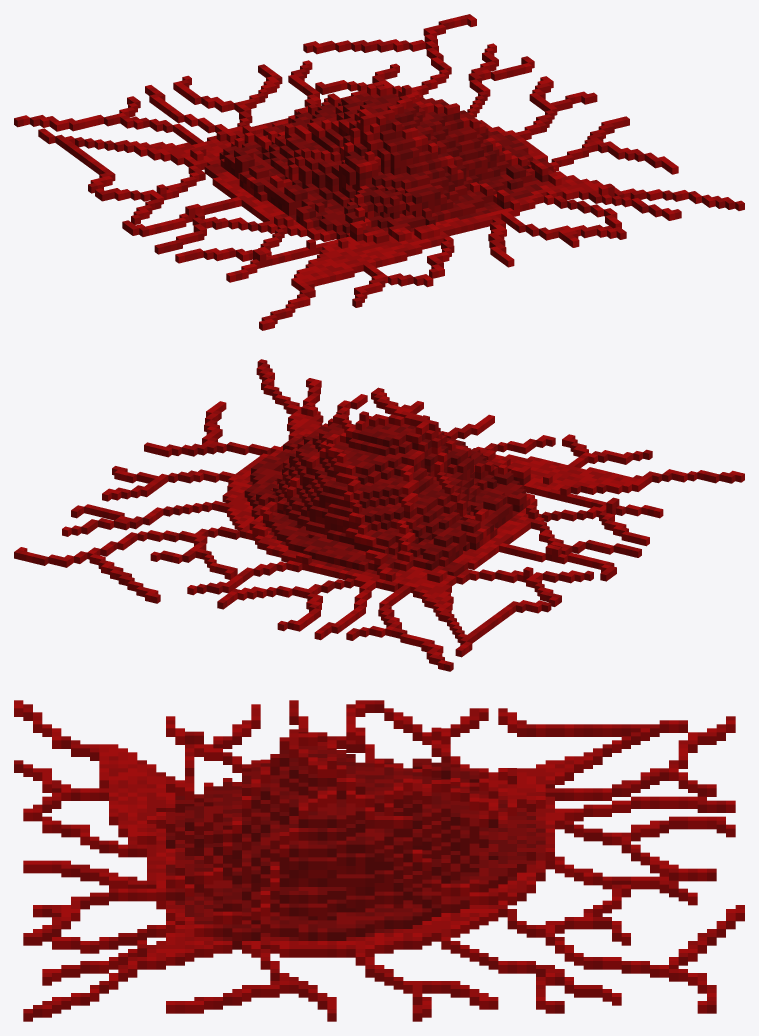
The model's file is Bines-1.obj.
3 views of the same model, one above another, from view 1: azimuth 30°, elevation 25°; view 2: azimuth 150°, elevation 25°; view 3: azimuth 270°, elevation 25° (orthographic). The views are drawn at different scales.
Size of the model in its own units: 7.8 by 1.4 by 7.7.
Materials: 1 (1 with a texture image).
